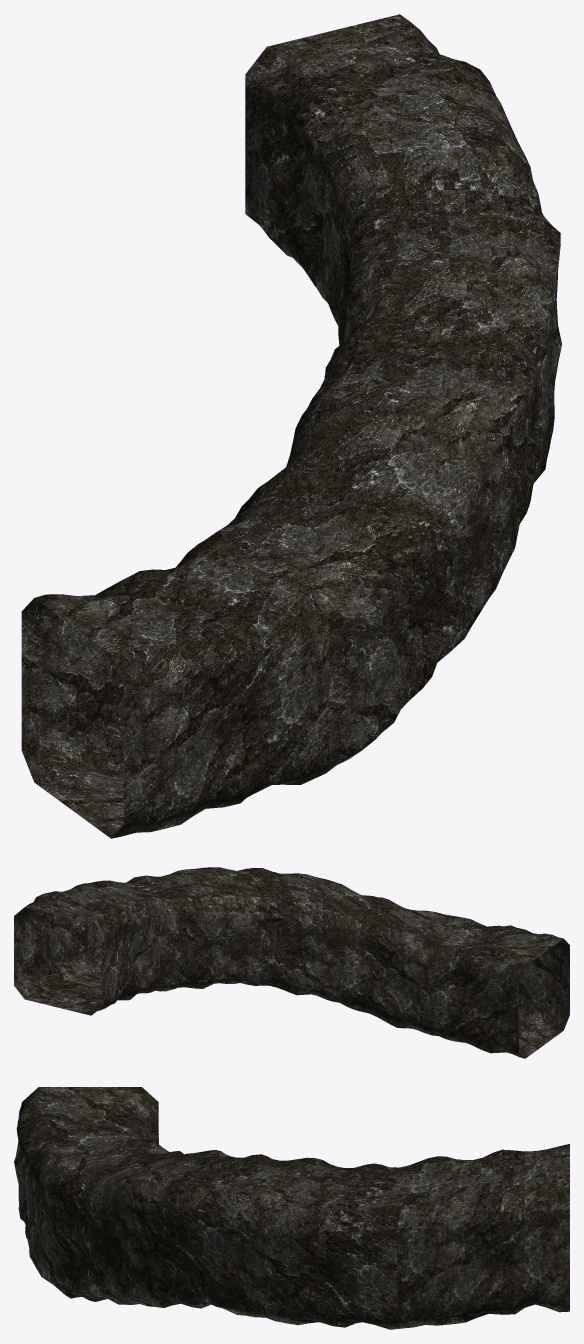
Rendered from Cave_095.fbx.
The picture shows the model from 3 angles, top to bottom: view 1: azimuth 30°, elevation 25°; view 2: azimuth 150°, elevation 25°; view 3: azimuth 270°, elevation 25°; orthographic projection. The views are drawn at different scales.
Parts seen in each view (by area): view 1: Cave.095; view 2: Cave.095; view 3: Cave.095.
Part boxes in pixels (x1=…): Cave.095: x1=21, y1=14, x2=561, y2=838; Cave.095: x1=14, y1=867, x2=569, y2=1058; Cave.095: x1=14, y1=1087, x2=569, y2=1329.
Bounding box in the file's own units: 1212 × 609 × 1217.
